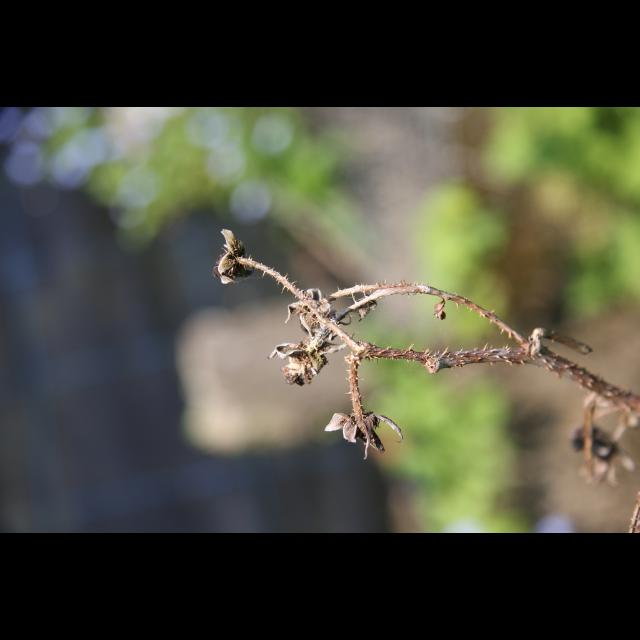Flower: (332, 394, 406, 456)
